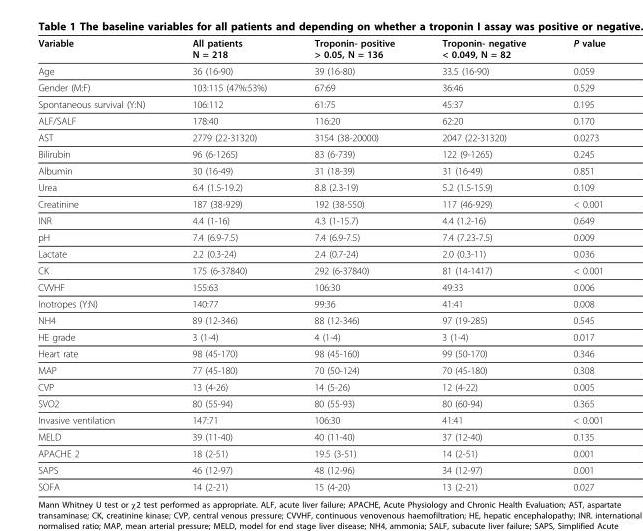table: (37, 36, 604, 491)
table column: (417, 36, 548, 491), (37, 36, 167, 491), (289, 36, 417, 491), (167, 36, 289, 491), (548, 36, 604, 491)
table column header: (37, 36, 604, 62)
table row: (37, 36, 604, 62), (37, 78, 604, 95), (37, 95, 604, 112), (37, 128, 604, 145), (37, 145, 604, 162), (37, 178, 604, 195), (37, 211, 604, 228), (37, 228, 604, 245), (37, 261, 604, 278), (37, 278, 604, 295), (37, 311, 604, 328), (37, 344, 604, 361), (37, 361, 604, 378), (37, 394, 604, 411), (37, 411, 604, 428), (37, 444, 604, 461), (37, 461, 604, 478), (37, 62, 604, 78), (37, 112, 604, 128), (37, 162, 604, 178), (37, 195, 604, 211), (37, 245, 604, 261), (37, 295, 604, 311), (37, 328, 604, 344), (37, 378, 604, 394), (37, 428, 604, 444), (37, 478, 604, 491)
